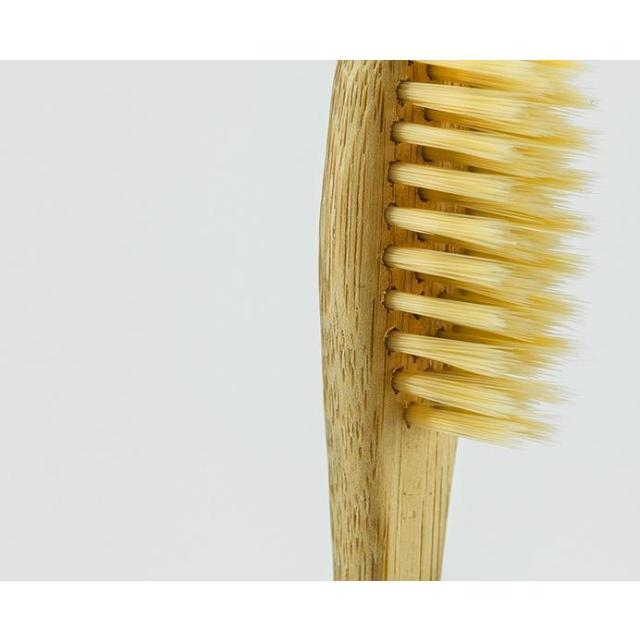toothbrush: (260, 59, 640, 580)
